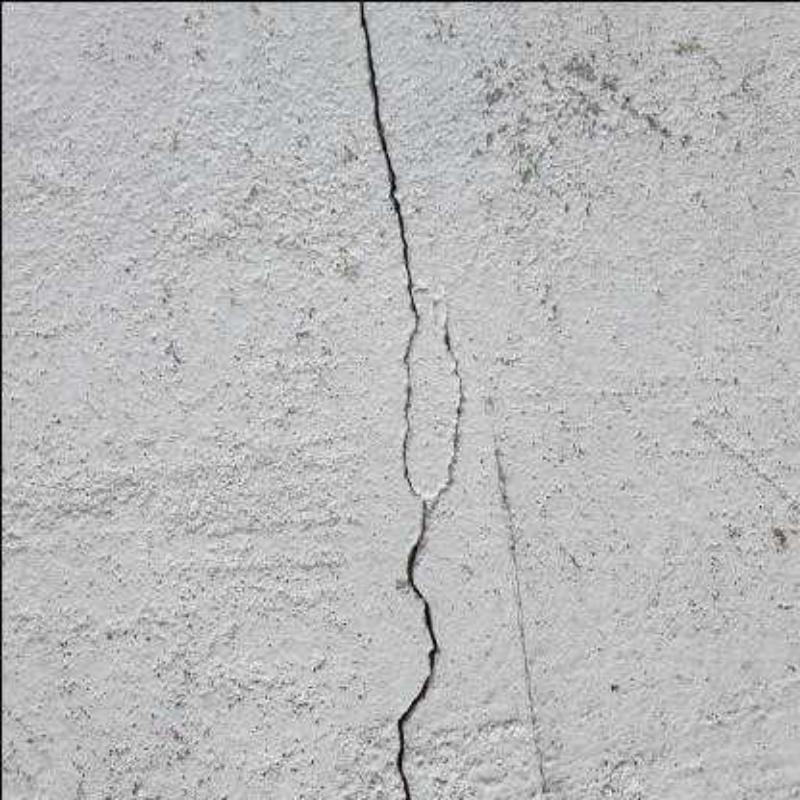pothole: (358, 0, 435, 800), (434, 323, 461, 499)
